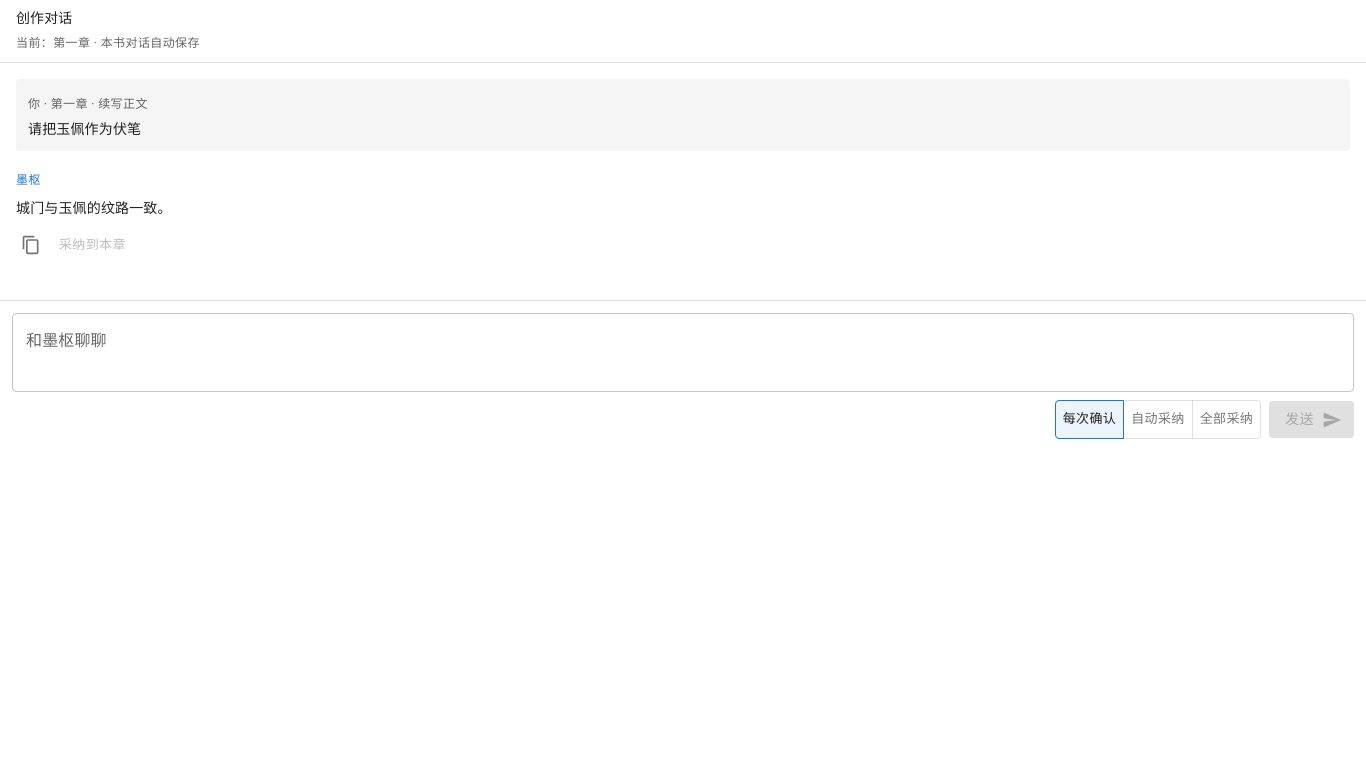
it: 常驻对话面板 › 发送讨论保留历史，并携带当前章节和未保存正文
Expected: the text "城门与玉佩的纹路一致。" is shown, left=16, top=200, right=172, bottom=216
Type "刚才的伏笔怎么回收？" into the text box labelled "和墨枢聊聊" at x=683, y=353, box left=26, top=330, right=1340, bottom=376
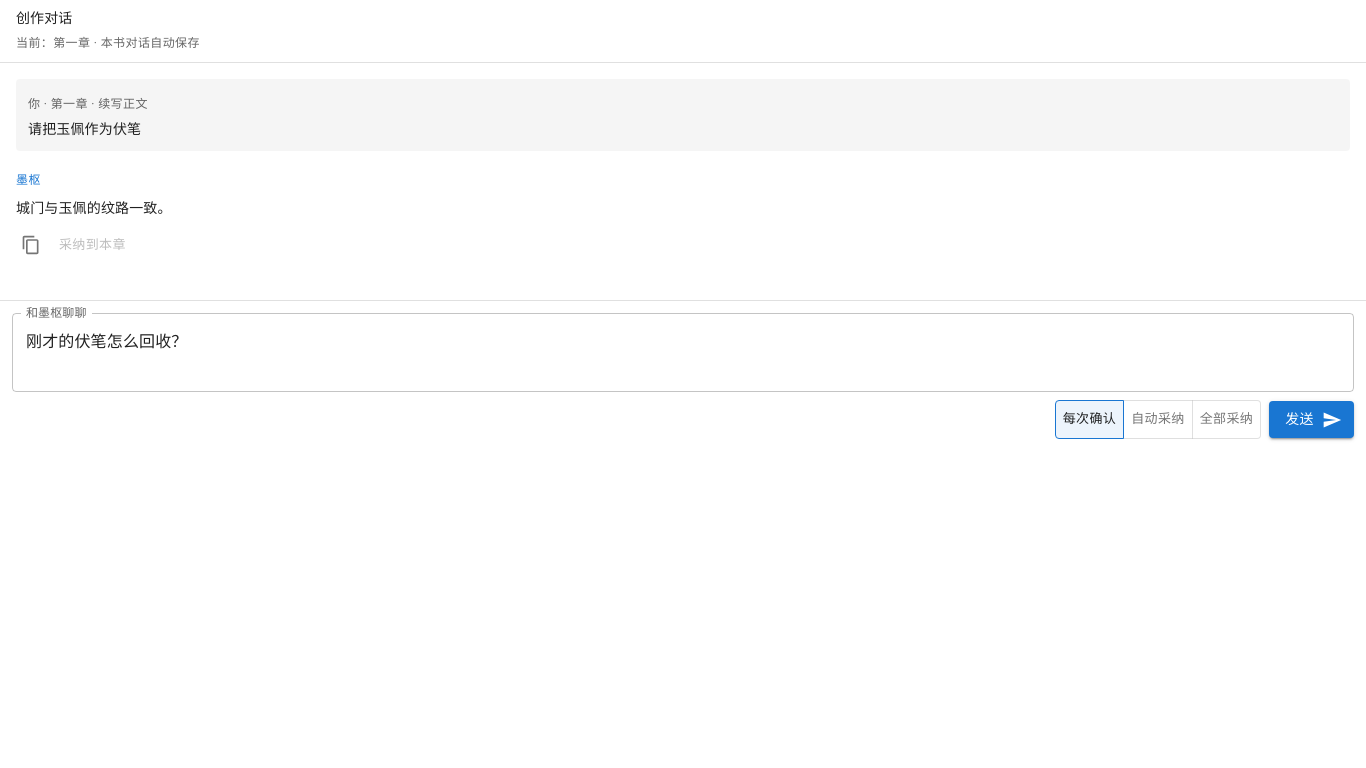
Click the button "发送" at x=1312, y=420, box left=1269, top=402, right=1354, bottom=438
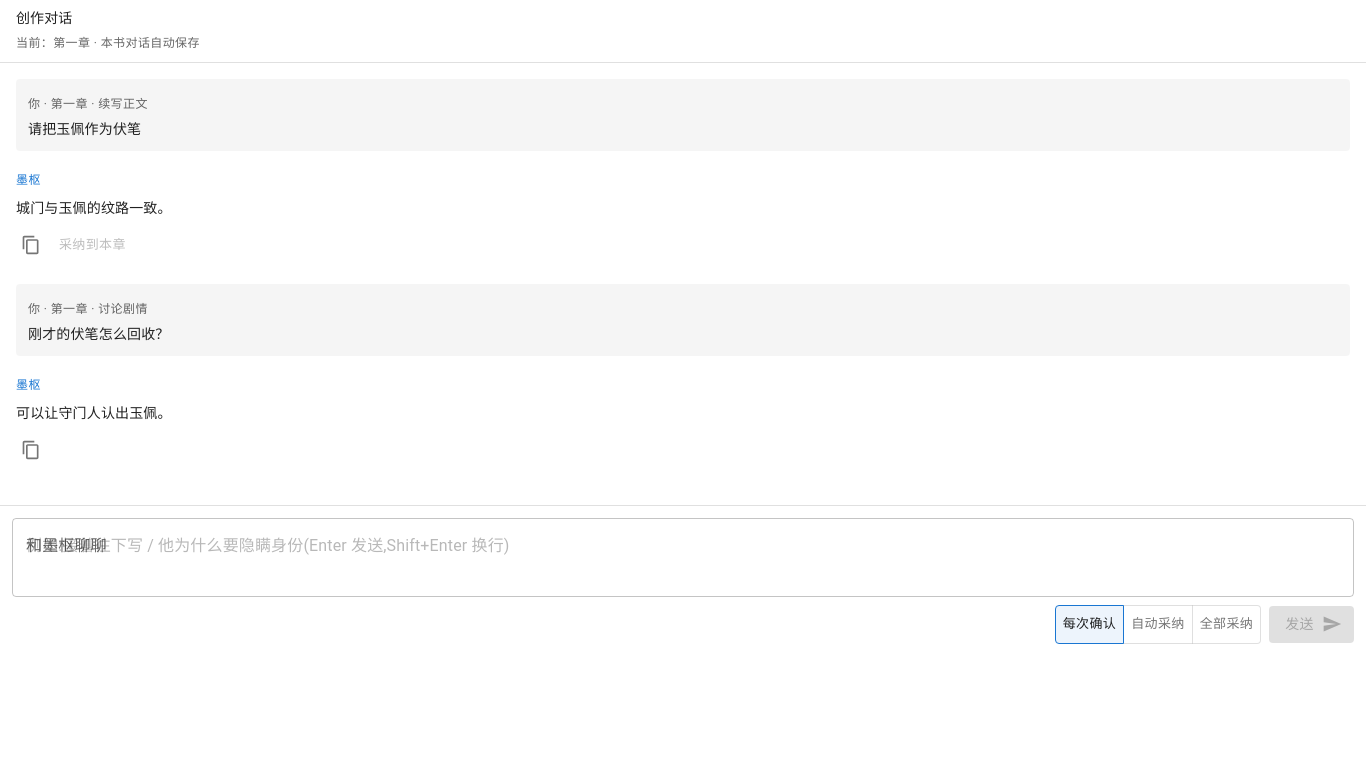
Expected: the text "城门与玉佩的纹路一致。" is shown, left=16, top=200, right=172, bottom=216
Now the text "可以让守门人认出玉佩。" is shown, box left=16, top=405, right=172, bottom=421
